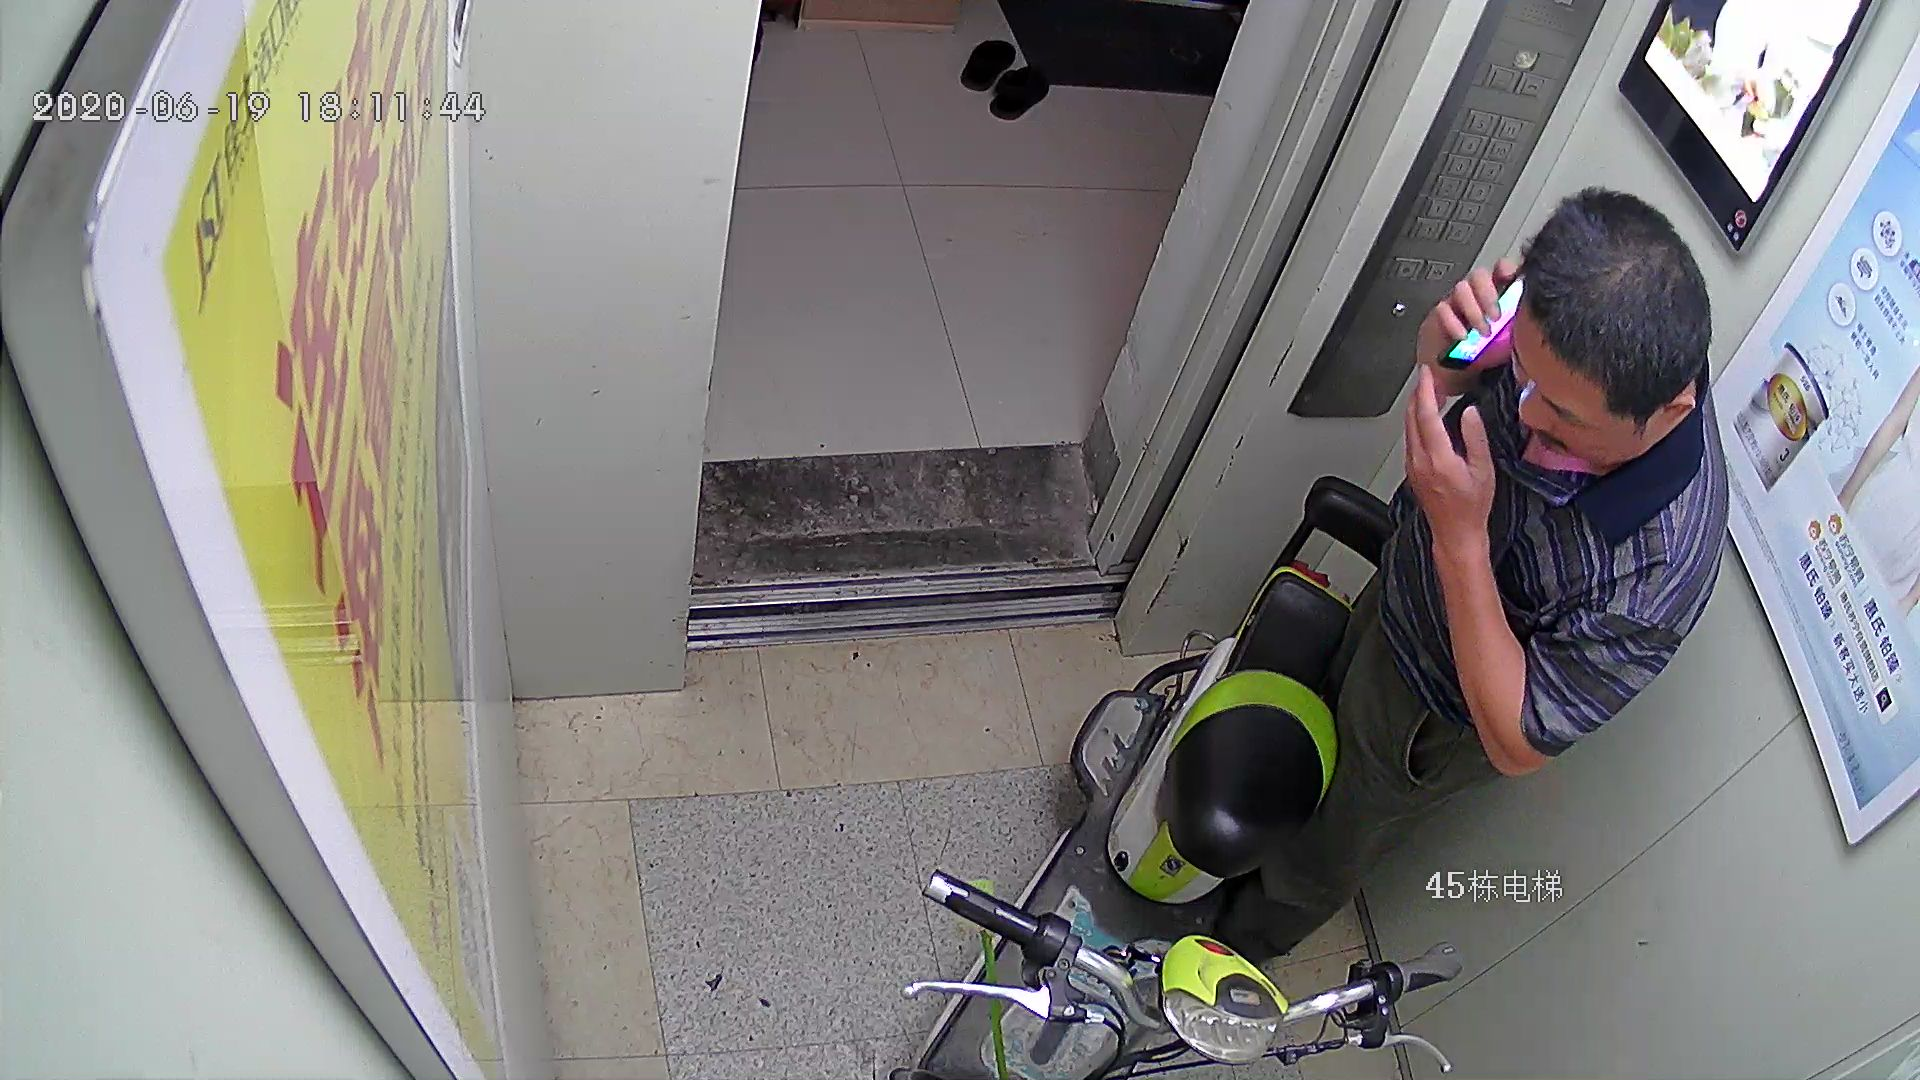Electric-bicycle: (924, 465, 1452, 1080)
